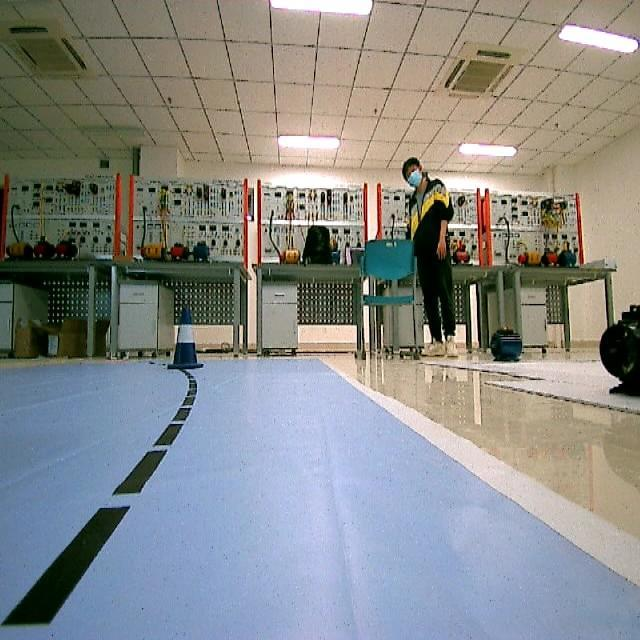obstacle: (158, 305, 208, 372)
